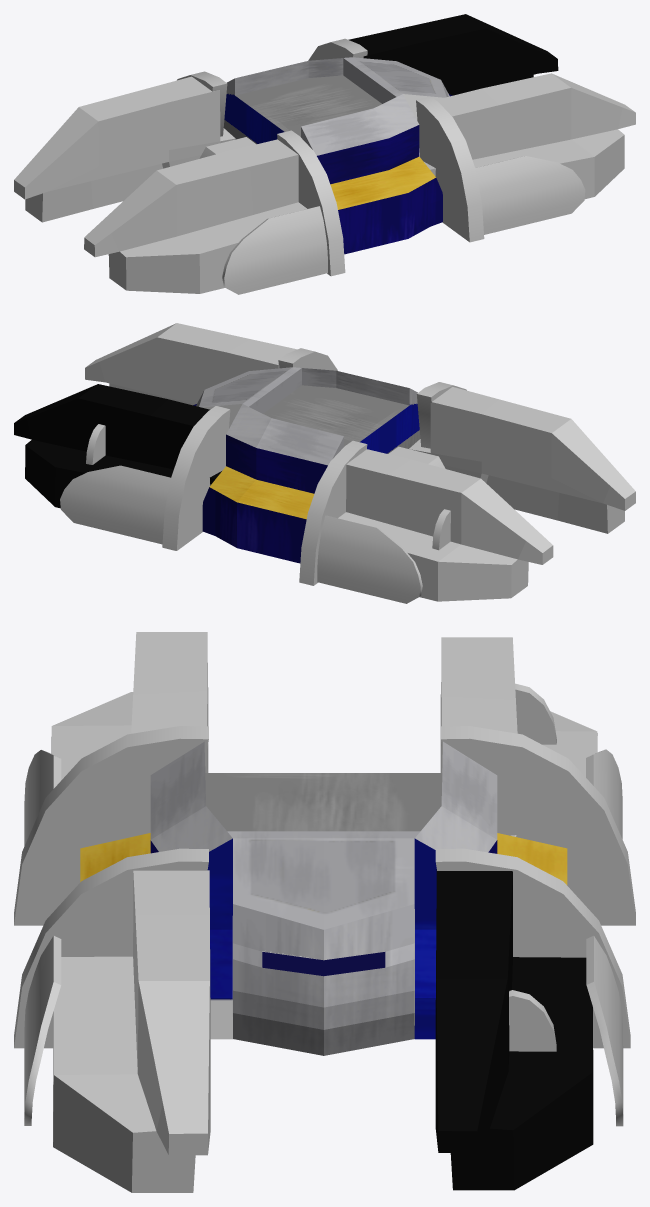
The model's file is ZephyrFBX.fbx.
3 renders of one model, top to bottom at view 1: azimuth 30°, elevation 25°; view 2: azimuth 150°, elevation 25°; view 3: azimuth 270°, elevation 25°, orthographic. The views are drawn at different scales.
Visible parts, largest first — view 1: polySurface3, polySurface10, polySurface11, polySurface9, polySurface7, pCube3, pCube1, pCylinder1, pCylinder2, pCylinder4, pCylinder3, pCube13; view 2: polySurface3, polySurface11, polySurface10, polySurface7, polySurface9, pCube2, pCube4, pCylinder4, pCylinder3, pCylinder2, pCylinder1, pCylinder8 (+2 smaller); view 3: polySurface3, polySurface9, polySurface7, pCylinder3, pCylinder2, polySurface10, pCylinder1, pCylinder4, polySurface11, pCube1, pCube4, pCylinder8 (+3 smaller).
Boxes of the visible parts, x1,y1,x2,y2 form: polySurface3: (223,57,452,254); polySurface10: (84,139,306,293); polySurface11: (14,76,235,222); polySurface9: (419,73,635,199); polySurface7: (348,14,558,95); pCube3: (222,206,327,294); pCube1: (475,156,585,234); pCylinder1: (416,96,484,242); pCylinder2: (277,130,345,276); pCylinder4: (308,38,367,60); pCylinder3: (177,71,227,136); pCube13: (199,137,255,158); polySurface3: (193,367,420,563); polySurface11: (338,449,553,601); polySurface10: (409,387,635,533); polySurface7: (14,384,221,508); polySurface9: (85,323,296,405); pCube2: (317,515,422,603); pCube4: (60,465,170,544); pCylinder4: (162,406,230,550); pCylinder3: (299,440,367,585); pCylinder2: (416,382,466,448); pCylinder1: (278,348,337,370); pCylinder8: (86,424,105,464); polySurface3: (80,741,567,1055); polySurface9: (53,870,210,1192); polySurface7: (435,869,593,1190); pCylinder3: (441,726,635,925); pCylinder2: (14,726,208,925); polySurface10: (51,632,208,779); pCylinder1: (14,848,208,1048); pCylinder4: (435,848,630,1048); polySurface11: (440,637,597,836); pCube1: (24,935,61,1125); pCube4: (586,935,623,1126); pCylinder8: (509,990,556,1051).
Bounding box in the file's own units: 12.52 × 2.34 × 6.88.
